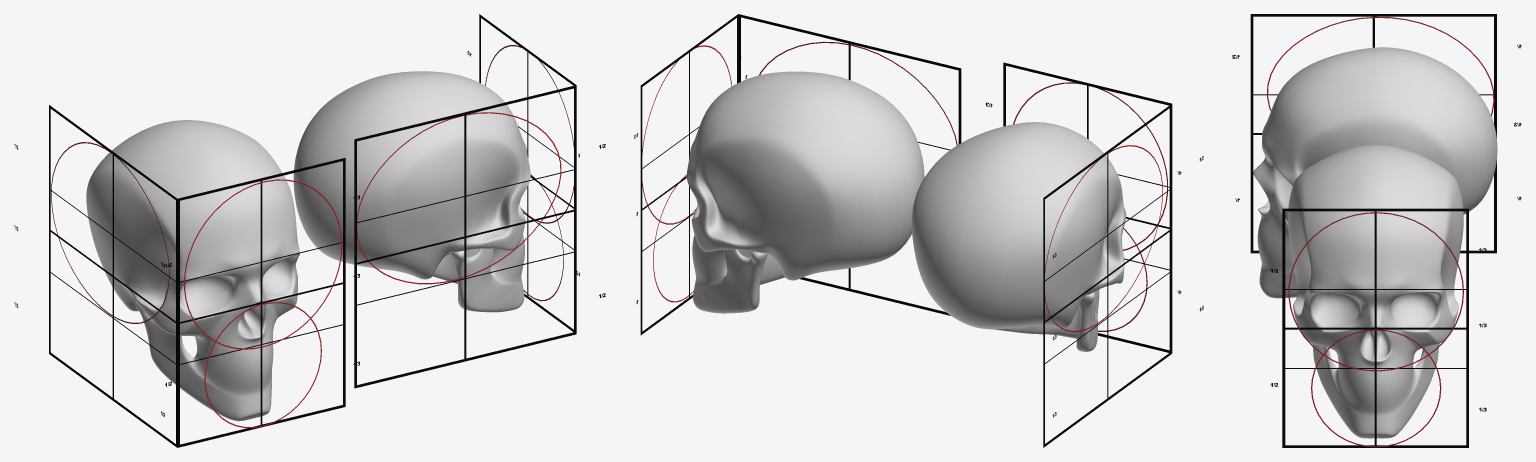
File: skeleton_head_c.glb
3 views of the same model, side by side, from view 1: azimuth 30°, elevation 25°; view 2: azimuth 150°, elevation 25°; view 3: azimuth 270°, elevation 25° (orthographic). The views are drawn at different scales.
Visible parts, largest first — view 1: Object_5, Object_6, Object_3, Object_4; view 2: Object_6, Object_5, Object_3, Object_4; view 3: Object_6, Object_5, Object_3, Object_4.
Part boxes in pixels (bbox=[...]): Object_5: bbox=[86, 120, 299, 421]; Object_6: bbox=[293, 71, 530, 312]; Object_3: bbox=[49, 14, 576, 447]; Object_4: bbox=[51, 45, 573, 428]; Object_6: bbox=[686, 71, 924, 313]; Object_5: bbox=[911, 122, 1126, 351]; Object_3: bbox=[640, 14, 1172, 447]; Object_4: bbox=[642, 41, 1167, 332]; Object_6: bbox=[1288, 144, 1463, 438]; Object_5: bbox=[1253, 47, 1497, 298]; Object_3: bbox=[1250, 14, 1496, 447]; Object_4: bbox=[1267, 16, 1494, 447].
Bounding box in the file's own units: 133 × 69.72 × 76.43.
